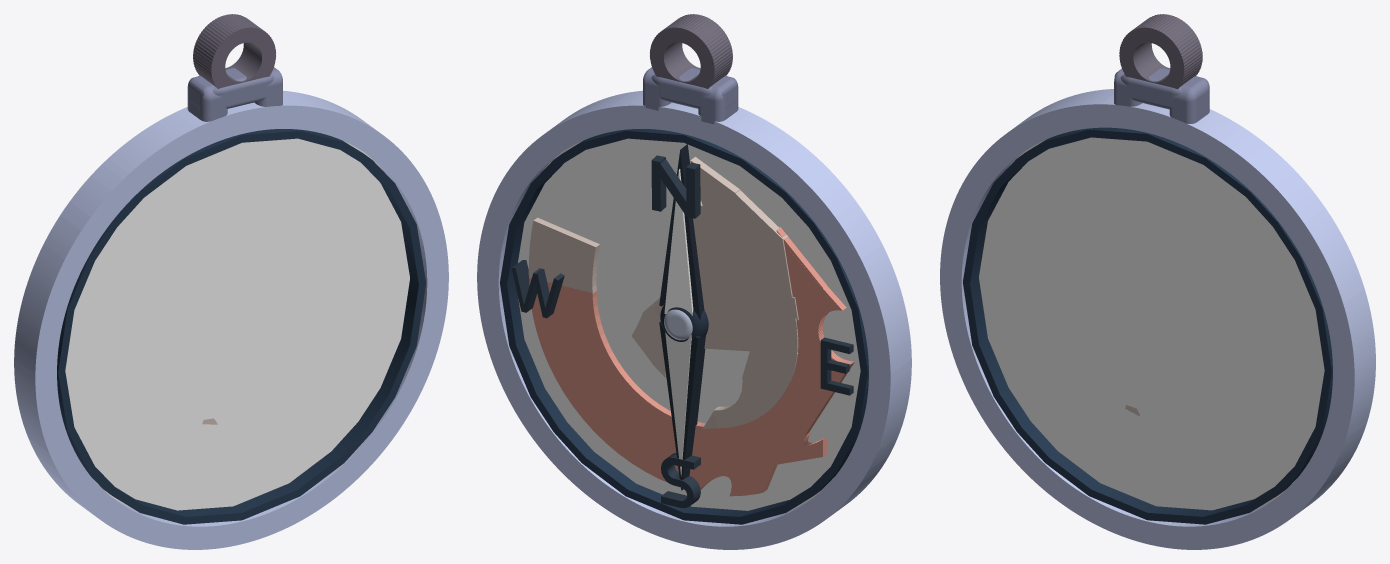
File: magazinecompass.glb
3 views of the same model, side by side, from view 1: azimuth 30°, elevation 25°; view 2: azimuth 150°, elevation 25°; view 3: azimuth 330°, elevation 25° (orthographic).
Parts seen in each view (by area): view 1: 3D MAGNET COMPASS; view 2: 3D MAGNET COMPASS; view 3: 3D MAGNET COMPASS.
Boxes of the visible parts, left/top/right/bottom form: 3D MAGNET COMPASS: left=14, top=14, right=448, bottom=549; 3D MAGNET COMPASS: left=477, top=14, right=911, bottom=549; 3D MAGNET COMPASS: left=940, top=14, right=1375, bottom=549.
Size of the model in its own units: 5.73 by 6.81 by 0.7889.
